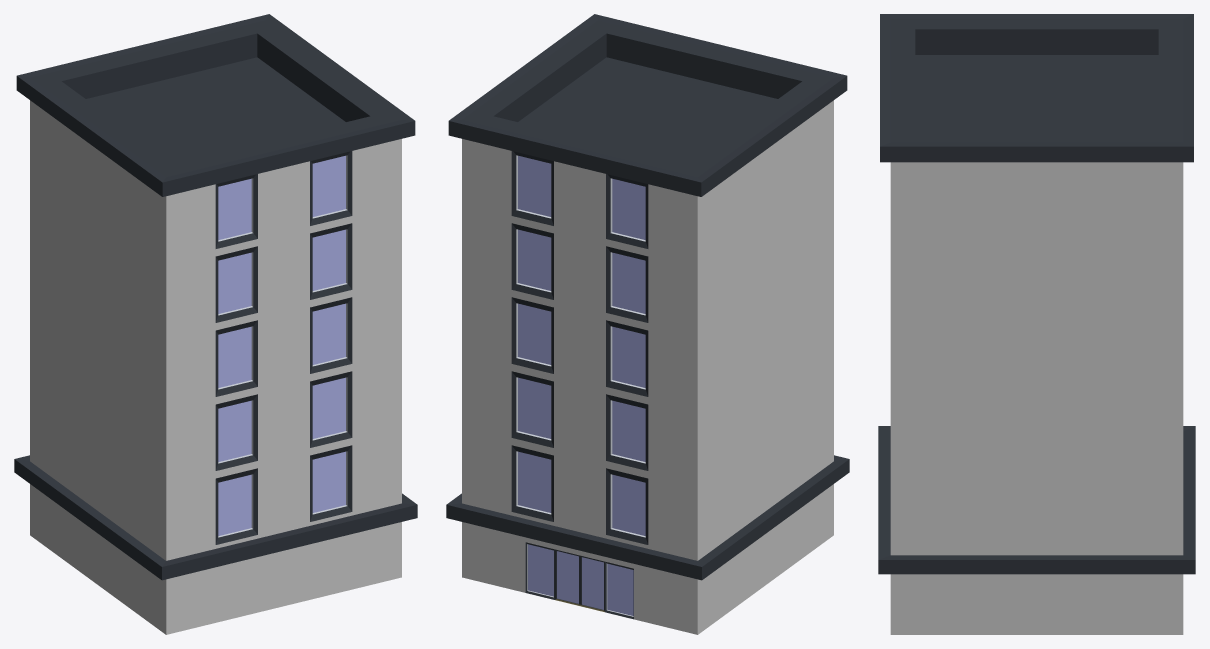
Rendered from building_1.glb.
3 renders of one model, left to right at view 1: azimuth 30°, elevation 25°; view 2: azimuth 150°, elevation 25°; view 3: azimuth 270°, elevation 25°, orthographic. The views are drawn at different scales.
Visible parts, largest first — view 1: Cube; view 2: Cube; view 3: Cube.
Boxes of the visible parts, box(x1,y1,x2,y2) form: Cube: box(14, 14, 417, 634); Cube: box(446, 14, 849, 634); Cube: box(878, 14, 1195, 634).
Bounding box in the file's own units: 21.69 × 37.14 × 21.69.
2 materials, 1 textured.
